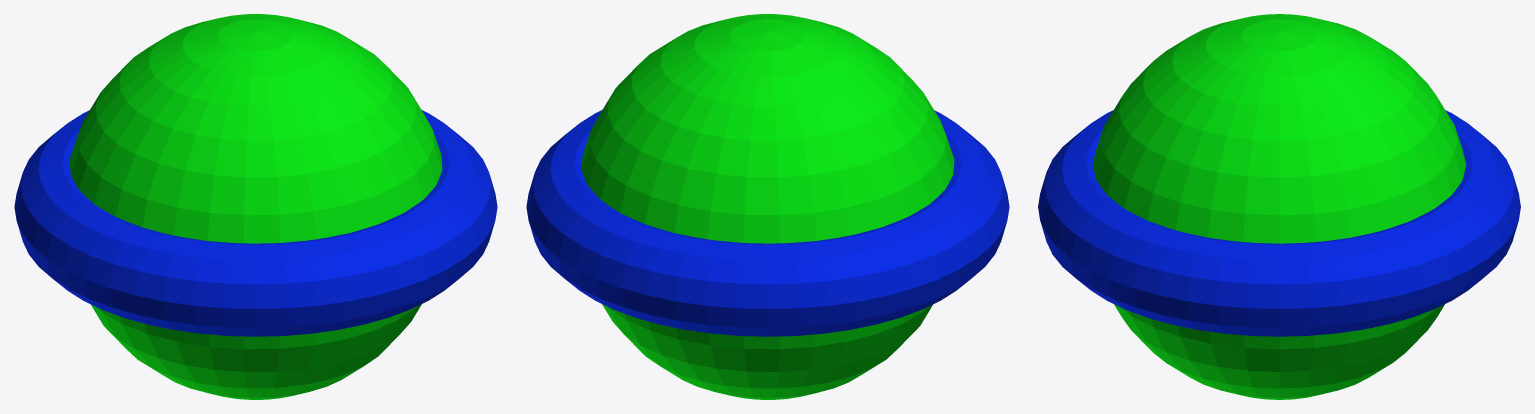
The model's file is Ball.fbx.
3 renders of one model, left to right at view 1: azimuth 30°, elevation 25°; view 2: azimuth 150°, elevation 25°; view 3: azimuth 270°, elevation 25°, orthographic.
Parts seen in each view (by area): view 1: Sphere, Torus; view 2: Sphere, Torus; view 3: Sphere, Torus.
Part boxes in pixels (box(x1,y1,x2,y2)): Sphere: box(69, 14, 442, 399); Torus: box(14, 110, 497, 336); Sphere: box(581, 14, 954, 399); Torus: box(526, 110, 1009, 336); Sphere: box(1092, 14, 1466, 399); Torus: box(1038, 110, 1520, 336).
Bounding box in the file's own units: 250 × 200 × 250.
